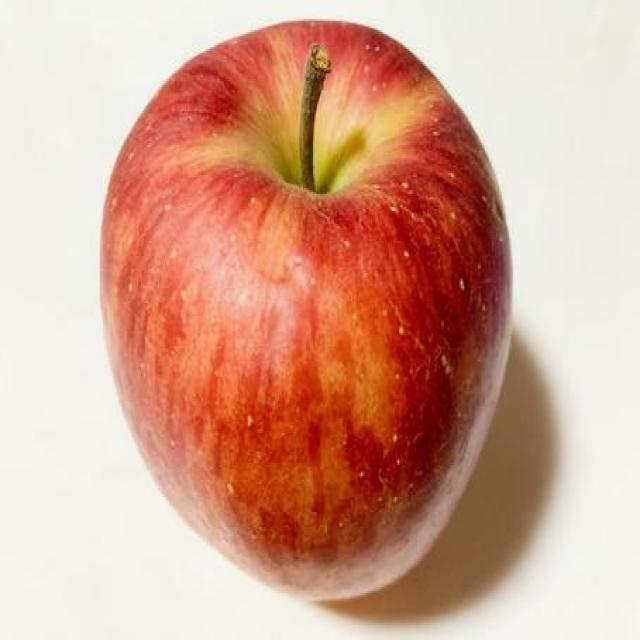apple: (98, 18, 515, 603)
